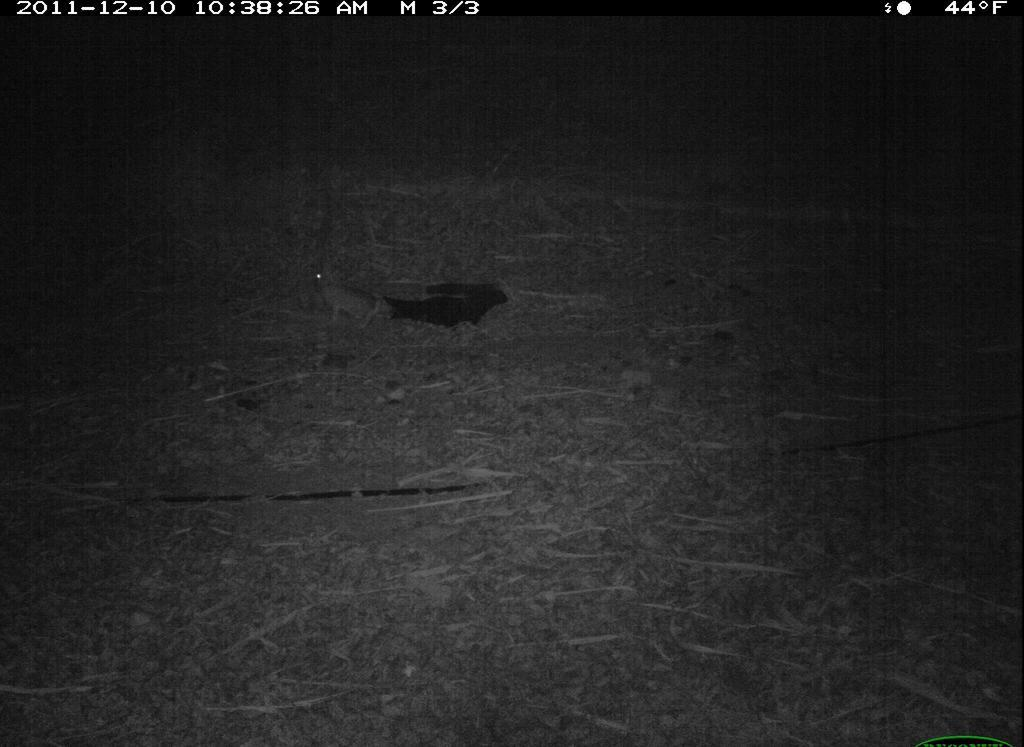rabbit: (299, 251, 400, 338)
